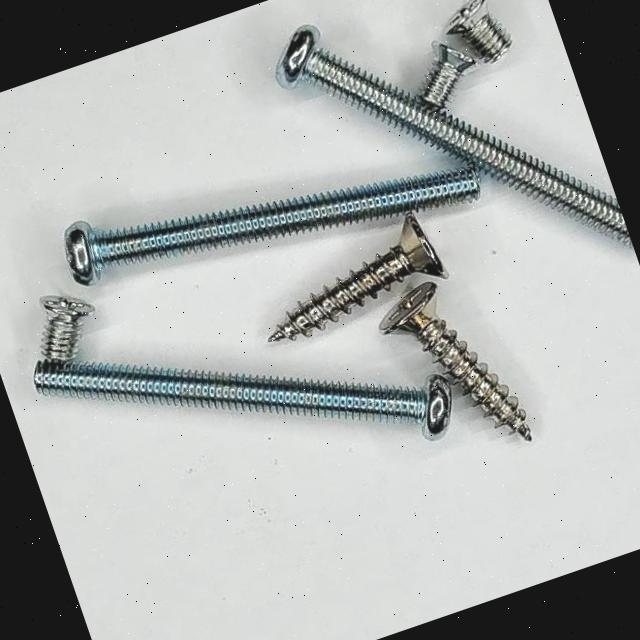Screw: (277, 24, 632, 245), (63, 166, 481, 285), (33, 357, 452, 439), (380, 281, 533, 440), (269, 212, 448, 340), (446, 0, 513, 61), (422, 40, 477, 107), (39, 295, 94, 360)
